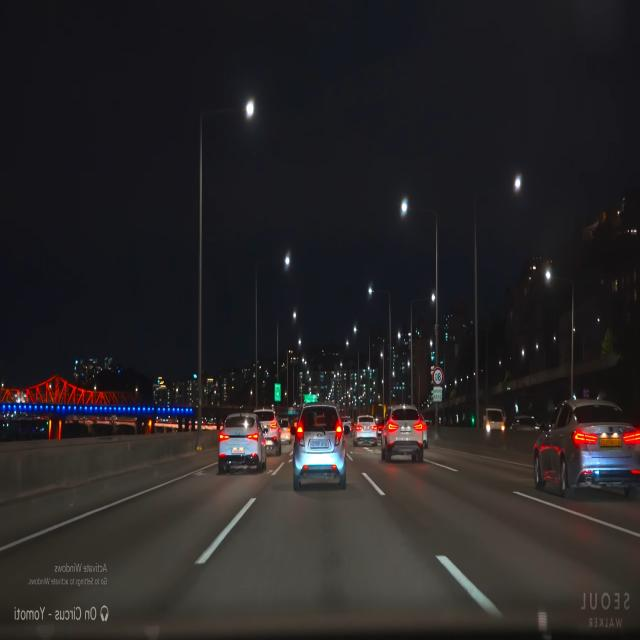headlights: (482, 416, 510, 436)
